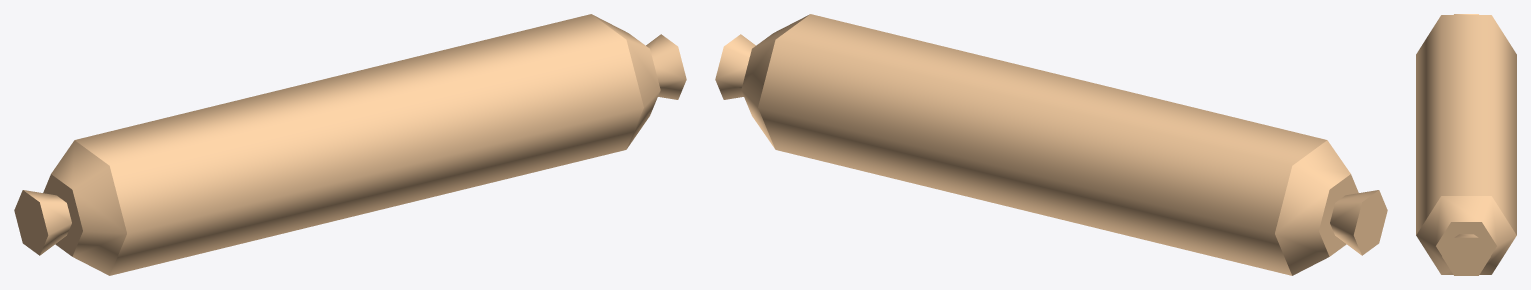
The model's file is hotDogRaw.GLB.
3 views of the same model, side by side, from view 1: azimuth 30°, elevation 25°; view 2: azimuth 150°, elevation 25°; view 3: azimuth 270°, elevation 25° (orthographic). The views are drawn at different scales.
Parts seen in each view (by area): view 1: hotDogRaw; view 2: hotDogRaw; view 3: hotDogRaw.
Boxes of the visible parts, x1,y1,x2,y2 form: hotDogRaw: (14, 14, 686, 275); hotDogRaw: (715, 14, 1387, 275); hotDogRaw: (1416, 14, 1516, 275).
Bounding box in the file's own units: 0.5859 × 0.0966 × 0.1116.
